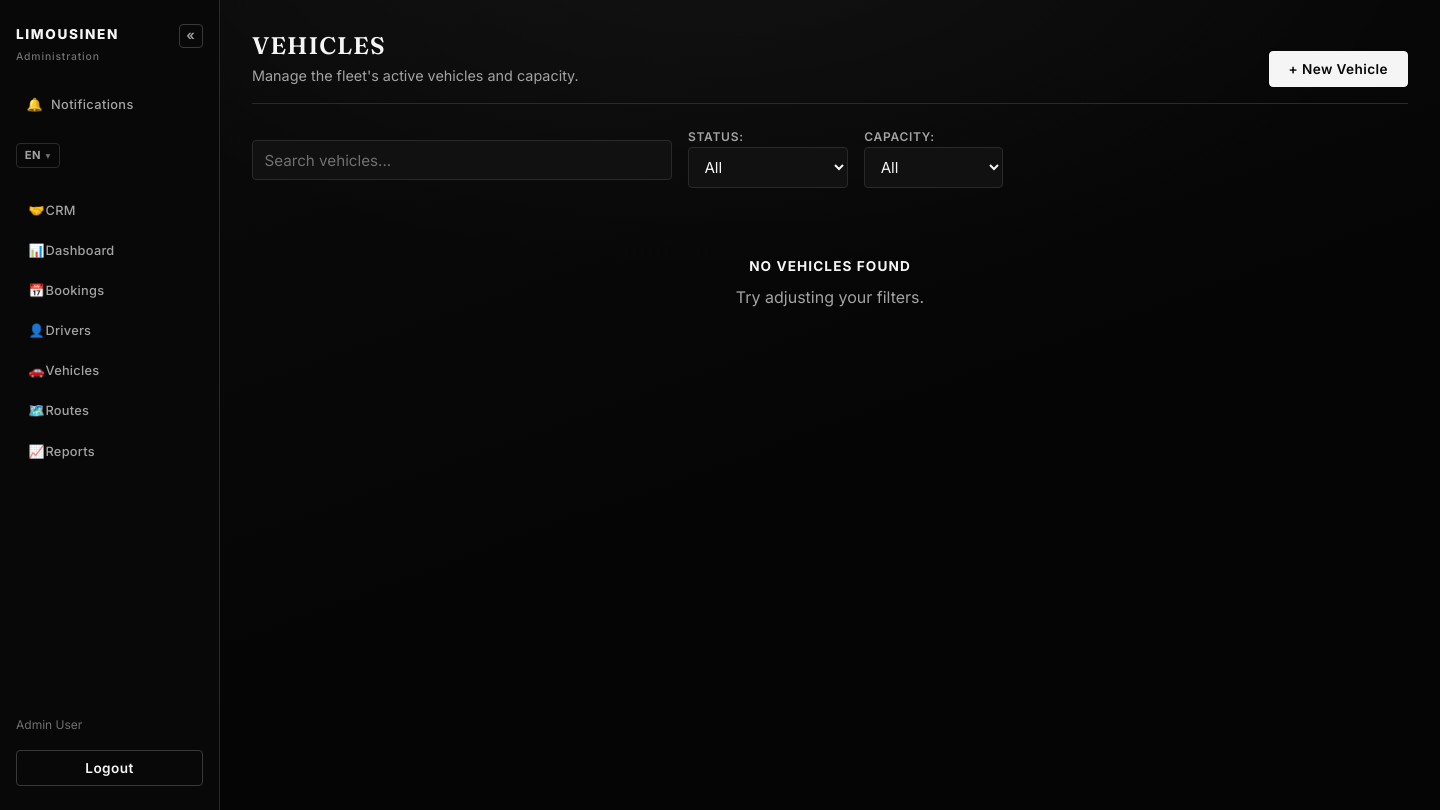
Test: VehiclesPage › shows the backend's duplicate-registration error inside the form
expect the text "No Vehicles Found" is shown: met, box x1=749 y1=258 x2=911 y2=274
Click the button "+ New Vehicle".
click(1338, 69)  # box x1=1268 y1=52 x2=1408 y2=87
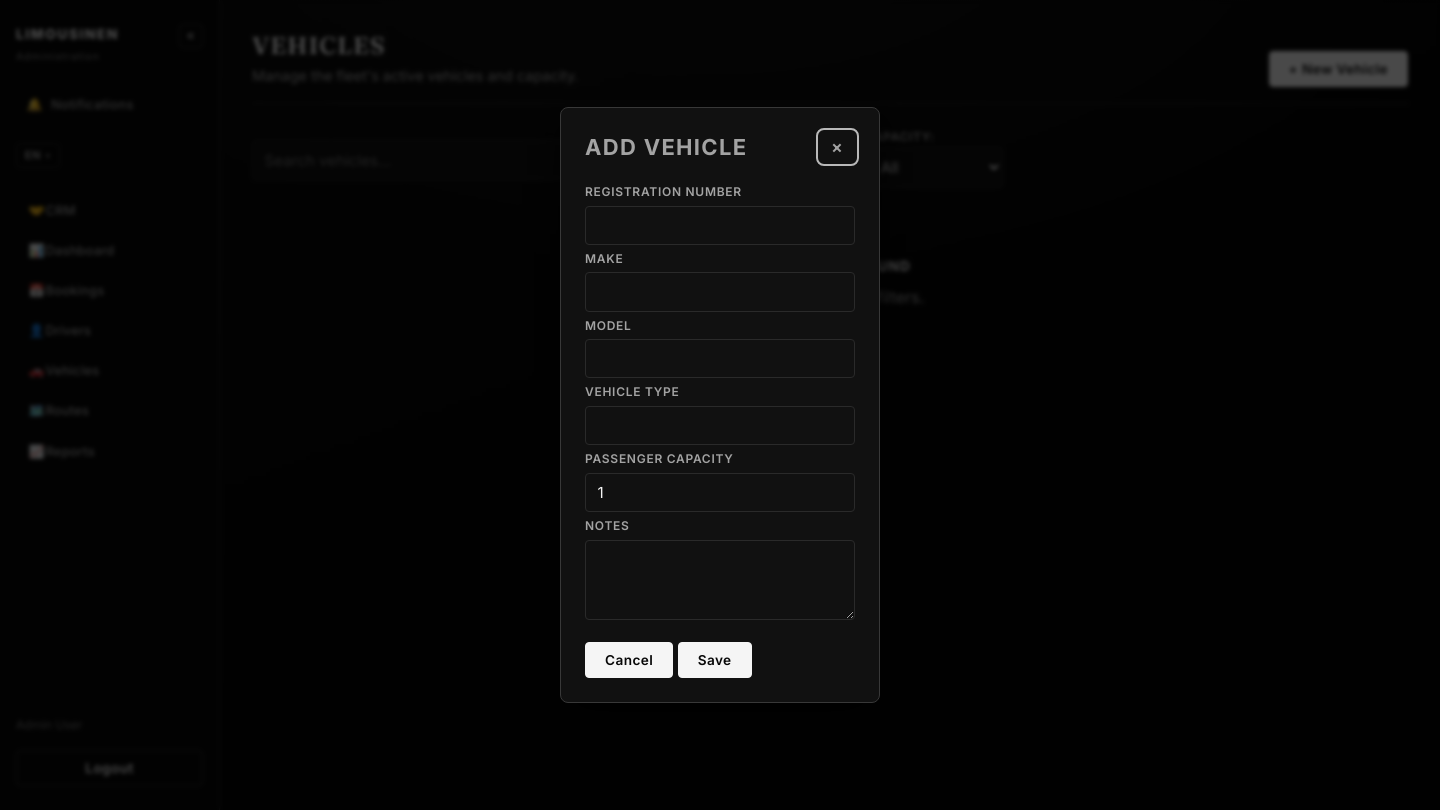
Type "BS 123456" into the field labelled "Registration number".
click(720, 225); type("BS 123456")  # box x1=585 y1=206 x2=855 y2=245
Type "Mercedes-Benz" into the field labelled "Make".
click(720, 292); type("Mercedes-Benz")  # box x1=585 y1=272 x2=855 y2=312
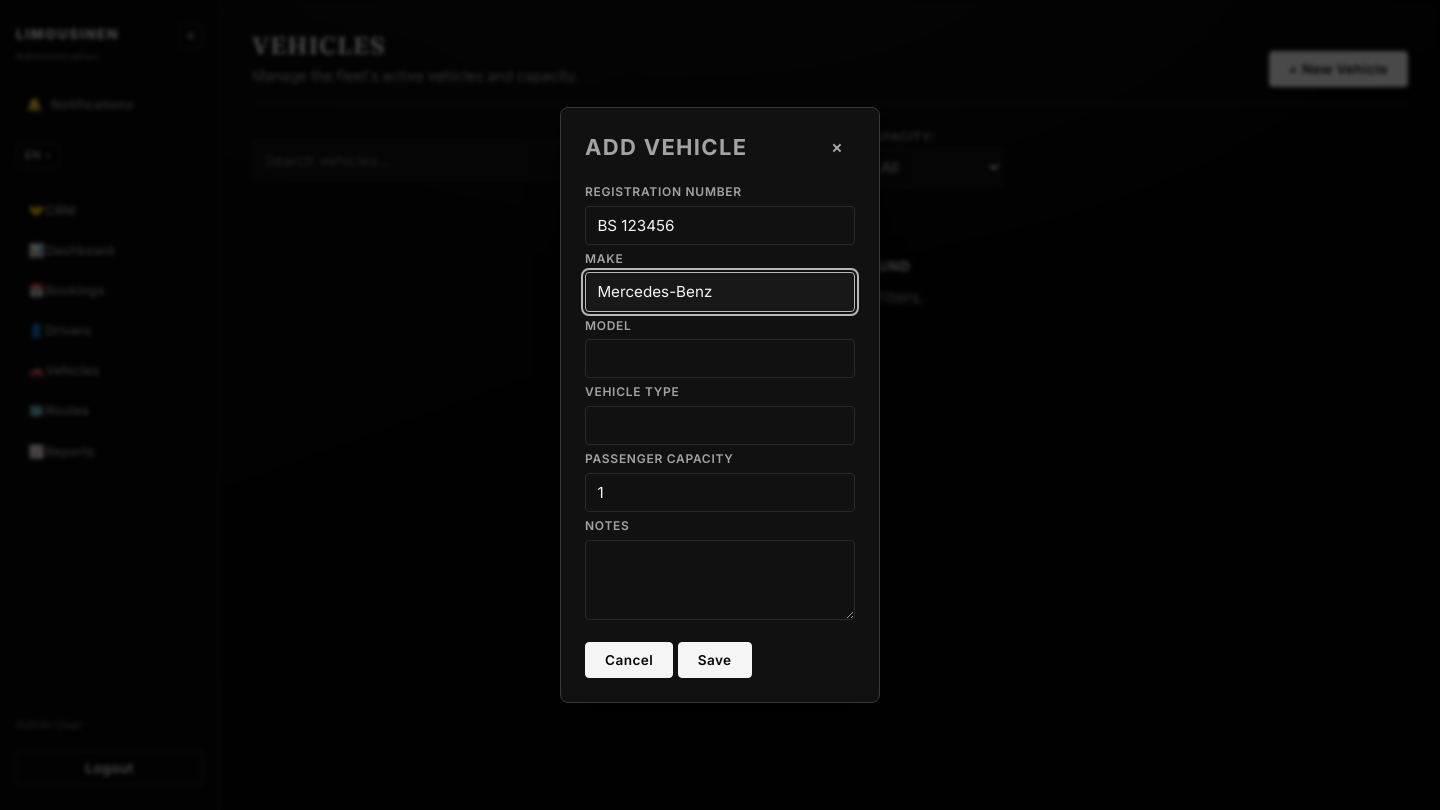
Type "V-Class" into the field labelled "Model".
click(720, 359); type("V-Class")  # box x1=585 y1=339 x2=855 y2=378
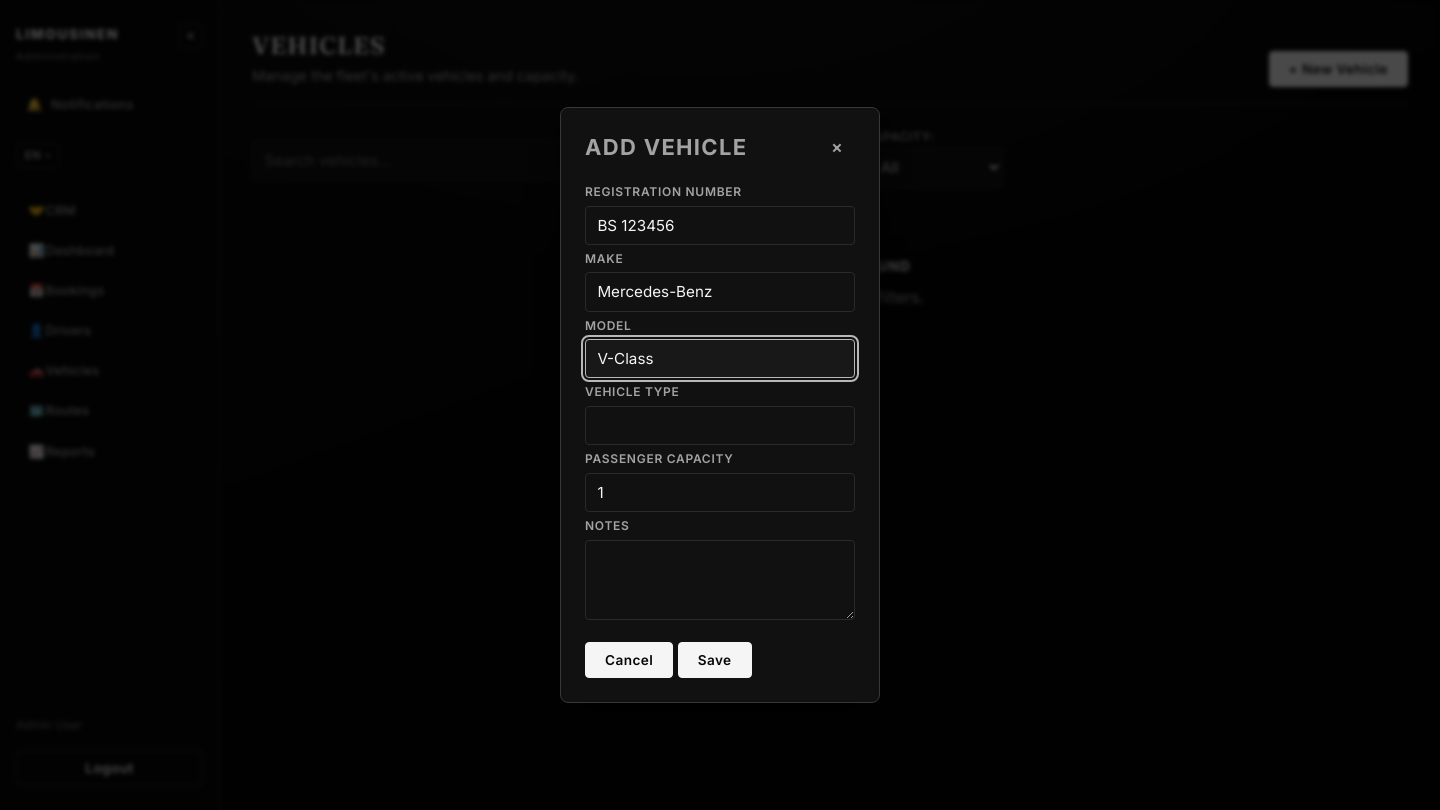
Type "Van" into the field labelled "Vehicle type".
click(720, 426); type("Van")  # box x1=585 y1=406 x2=855 y2=445
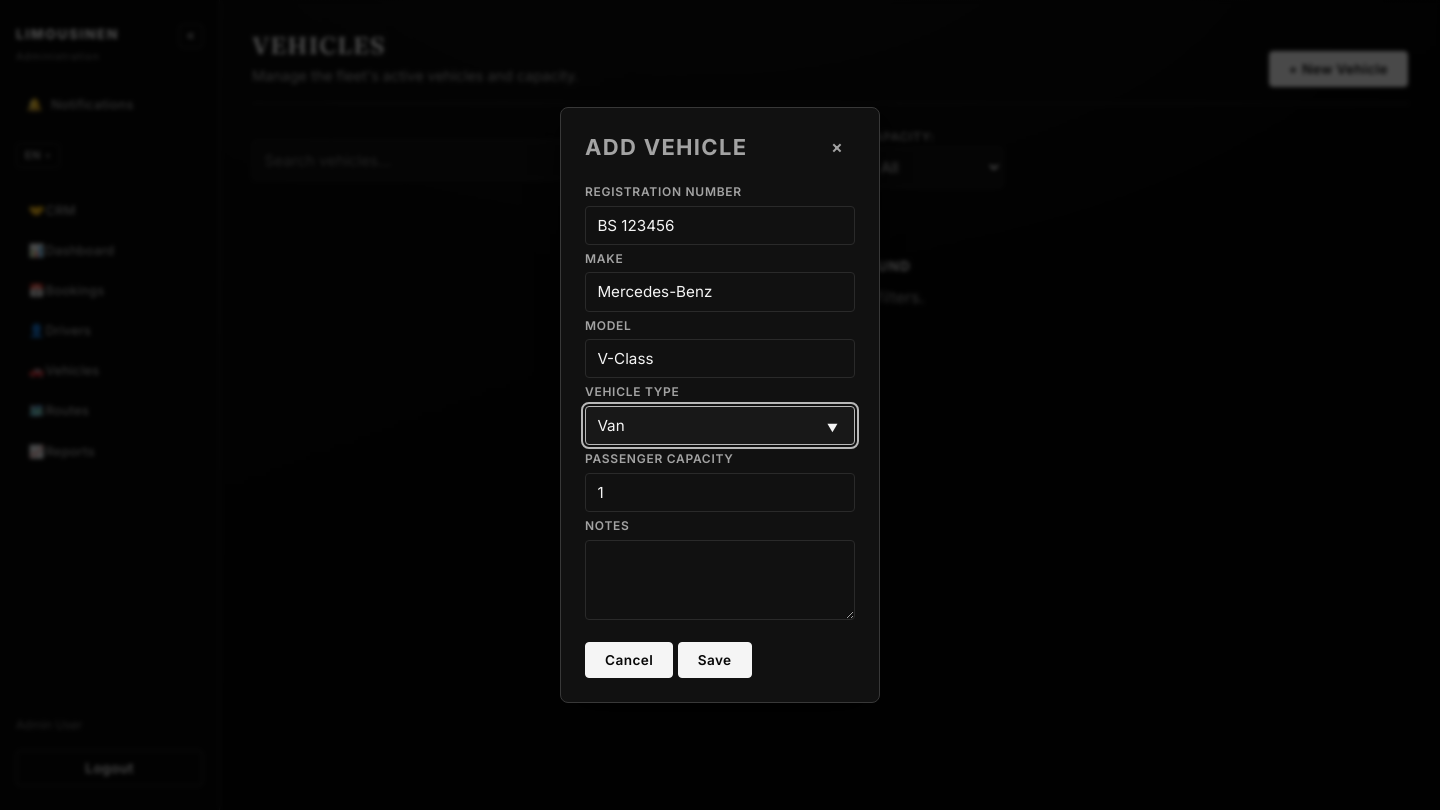
Replace the text in the number field labelled "Passenger capacity" with "7" at (720, 492), box x1=585 y1=473 x2=855 y2=512
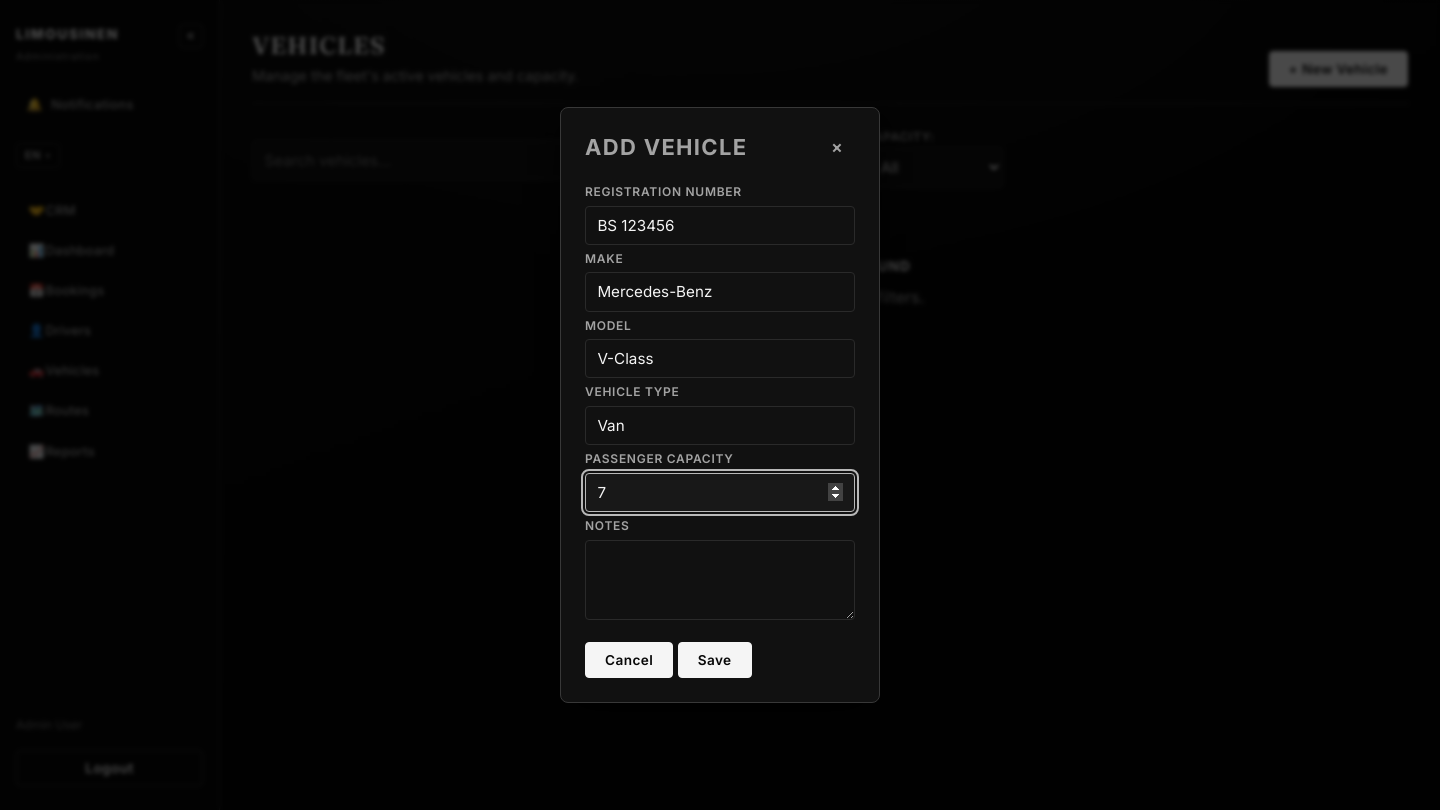
Click the button "Save".
click(715, 660)  # box x1=678 y1=642 x2=752 y2=678
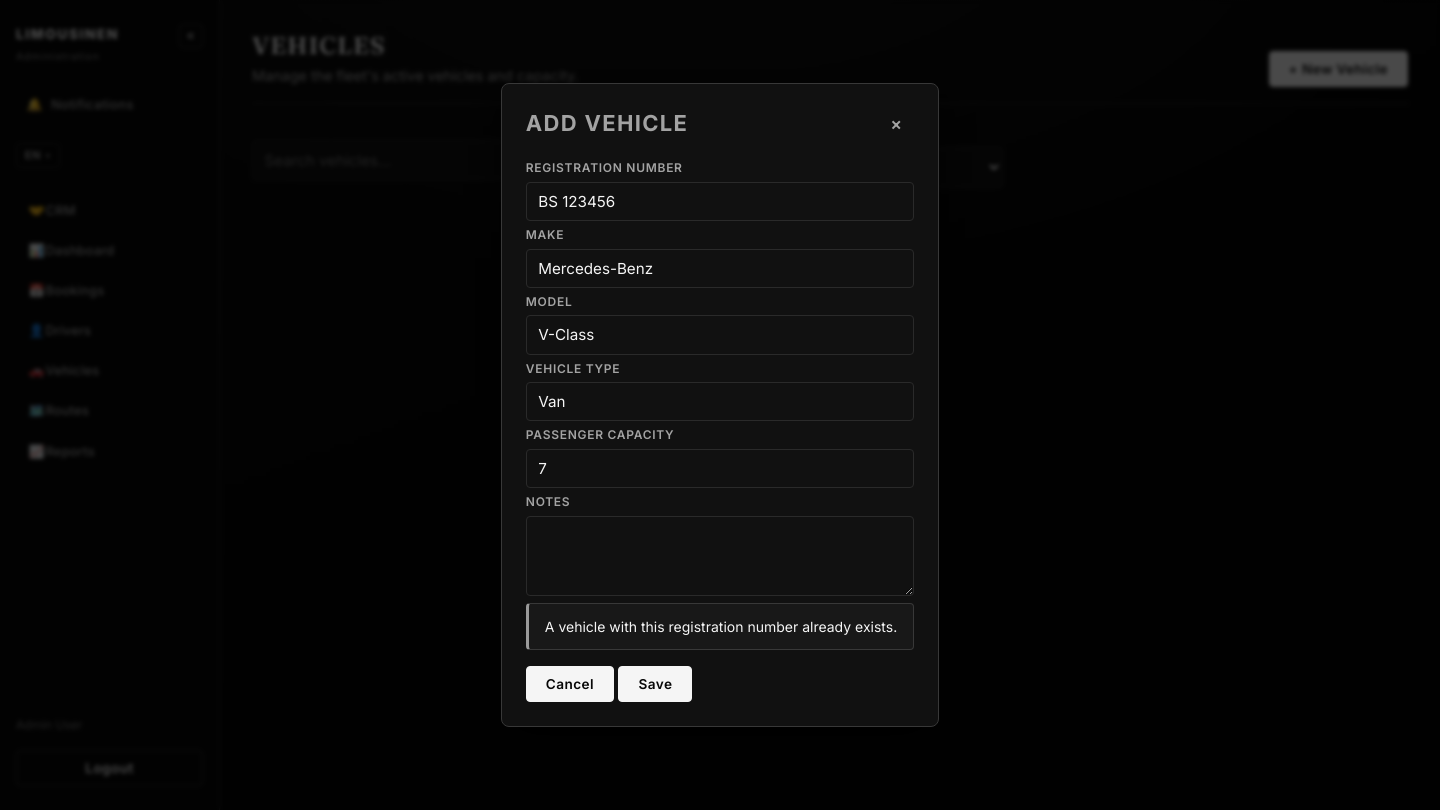
expect the text "A vehicle with this registration number already exists." is shown: met, box x1=526 y1=603 x2=914 y2=650
